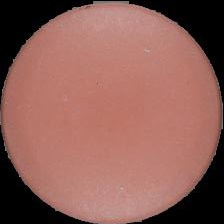68084-333: (0, 0, 224, 224)
